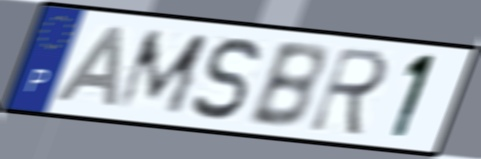1: (387, 51, 440, 145)
A: (51, 23, 127, 109)
B: (244, 41, 327, 132)
M: (111, 29, 213, 117)
R: (305, 44, 392, 140)
S: (187, 34, 263, 123)
